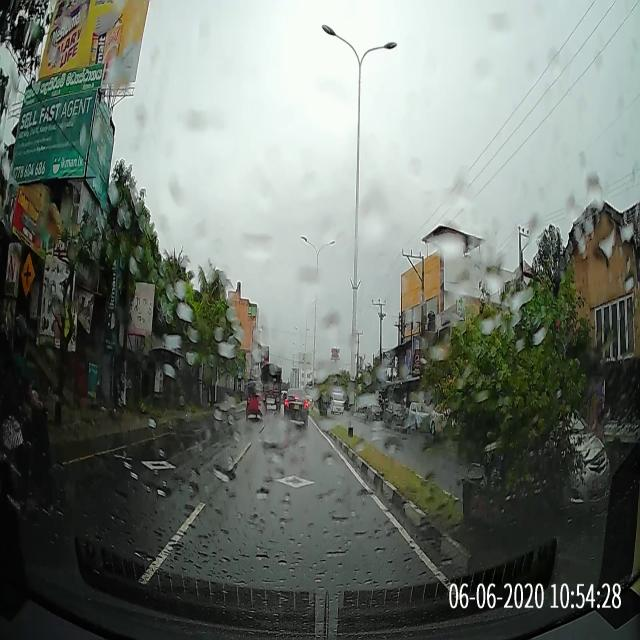diamond: (200, 450, 381, 499)
